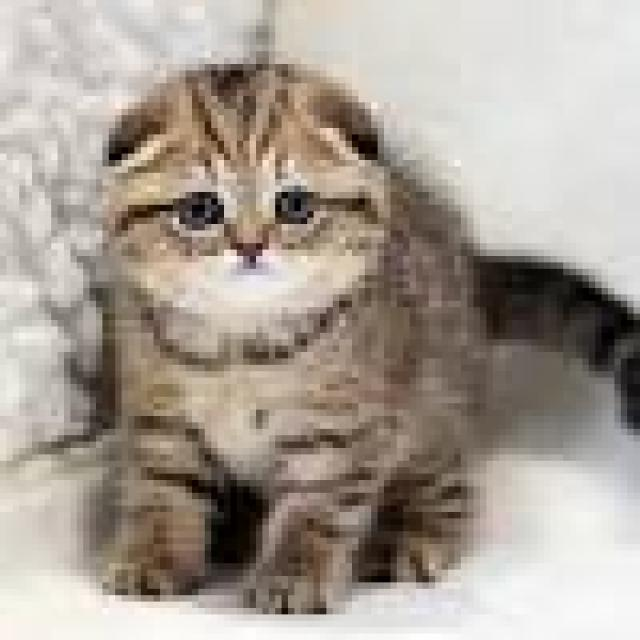cat-face: (88, 40, 469, 357)
